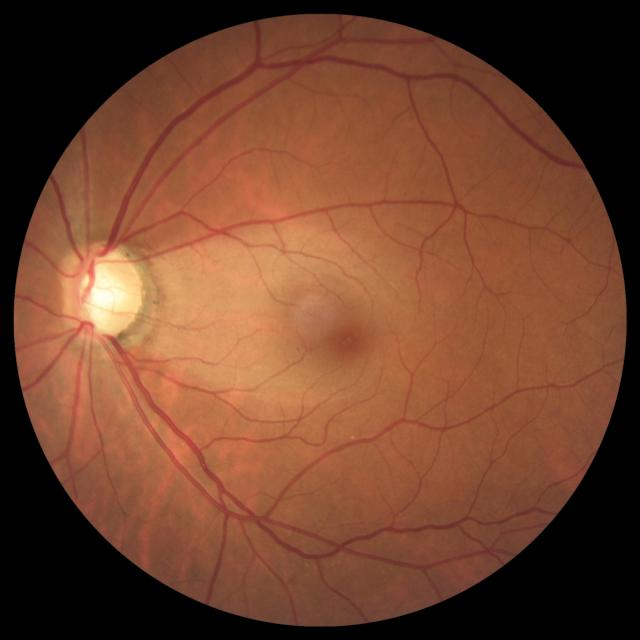OC: (75, 255, 130, 328)
OD: (59, 241, 142, 339)
